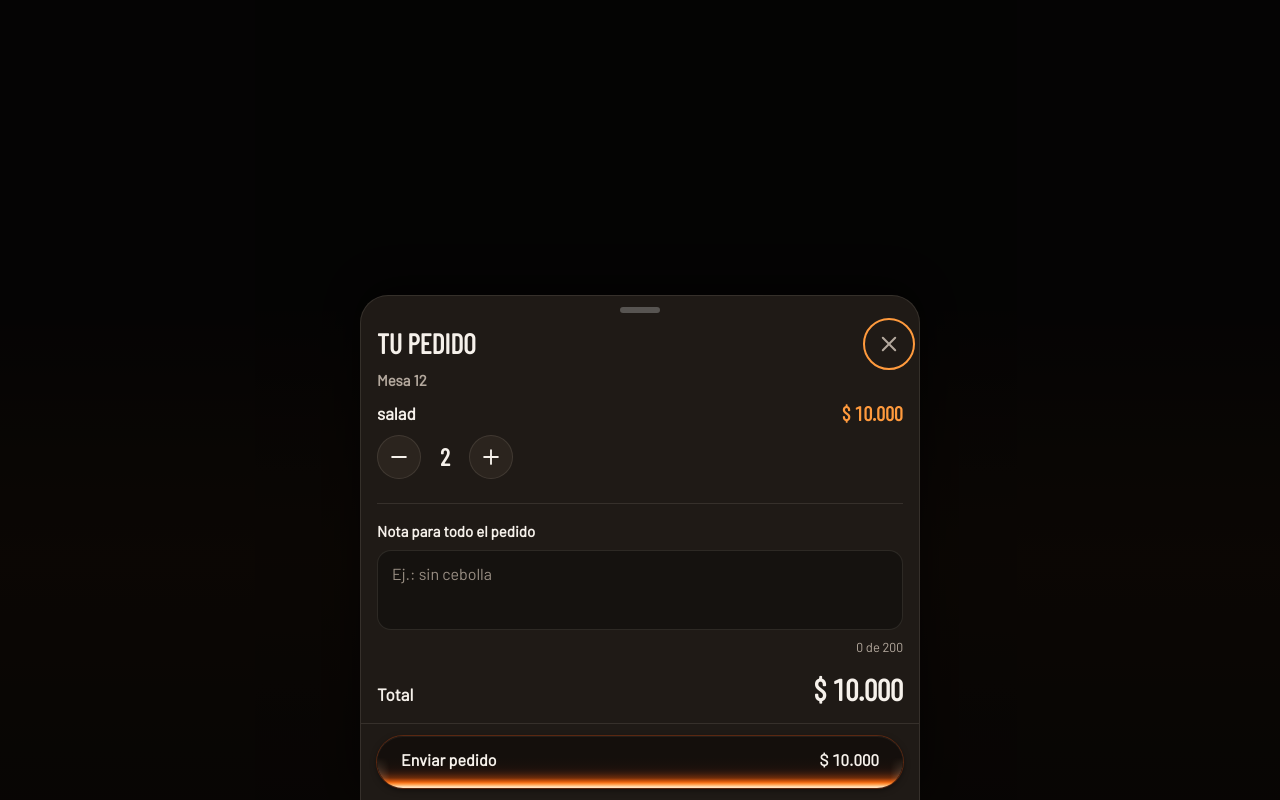
Test: CartSheet: resumen y envío del pedido (RF2, RF20-RF22, RF24-RF27, RF44; plan §5.4) › el restaurante rechaza el pedido (RF27, RF46) › "Revisar pedido" vuelve al resumen editable sin enviar nada (CL38)
This screenshot has width=1280, height=800.
Click the button "Enviar pedido $ 10.000".
click(449, 760)  # box [377,736,903,788]
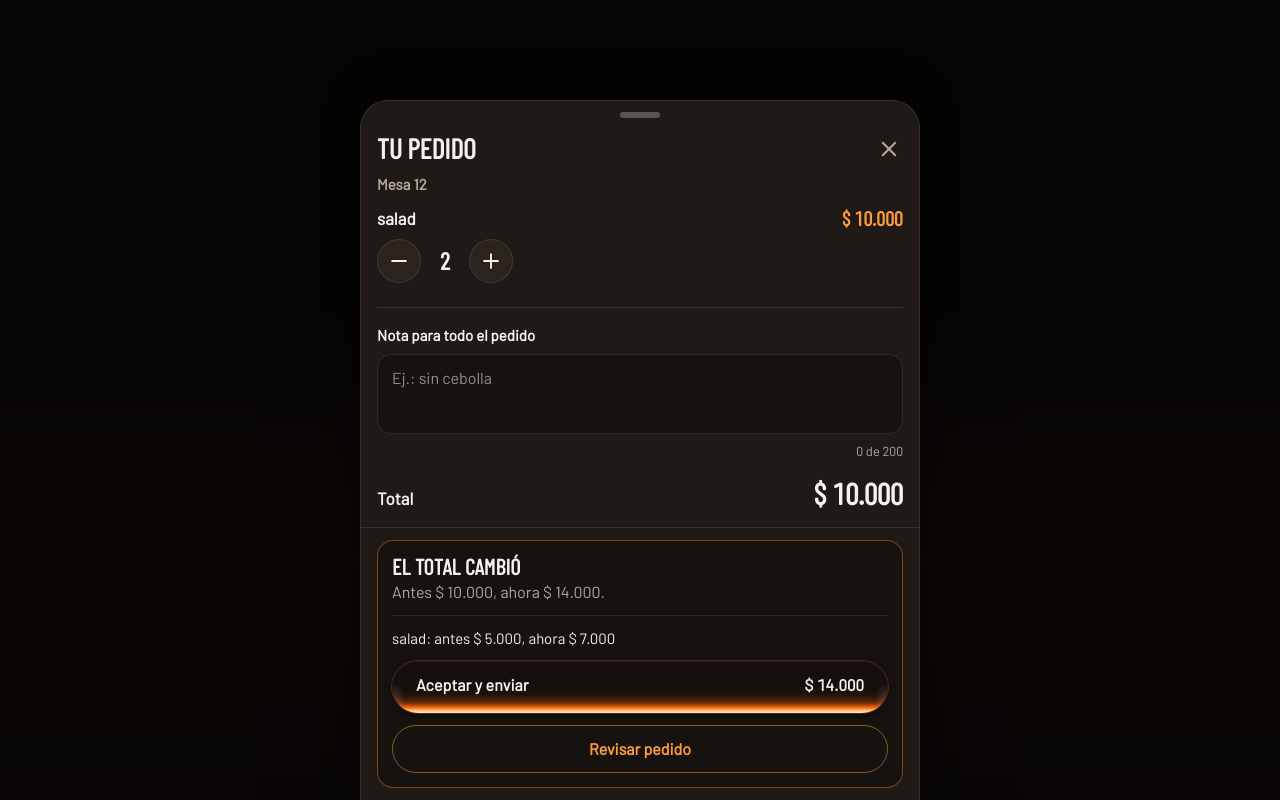
Click the button "Revisar pedido".
click(640, 749)  # box [392,725,888,773]
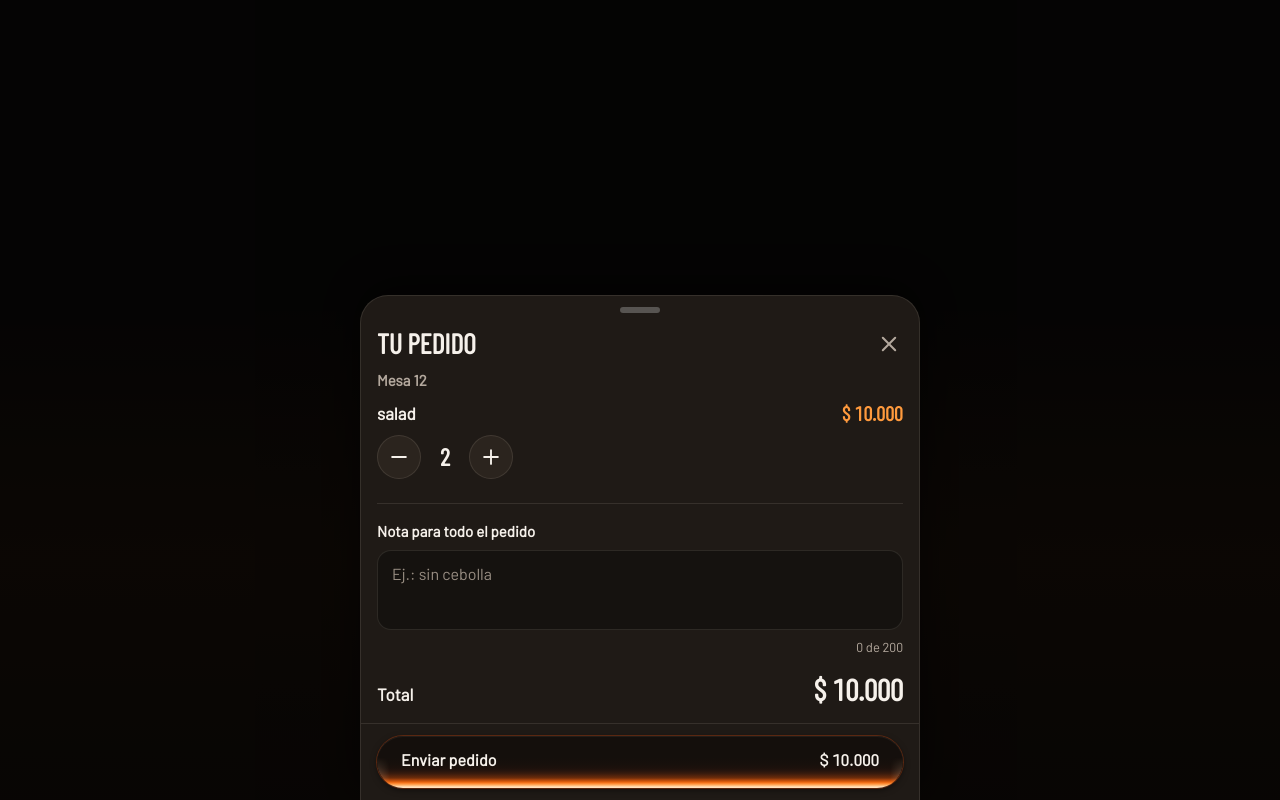
Expected: the button "Enviar pedido $ 10.000" is enabled, [377,736,903,788]
Now the heading "El total cambió" is gone
Now the number of buttons named "Aumentar cantidad" is 1, box [469,434,513,478]
